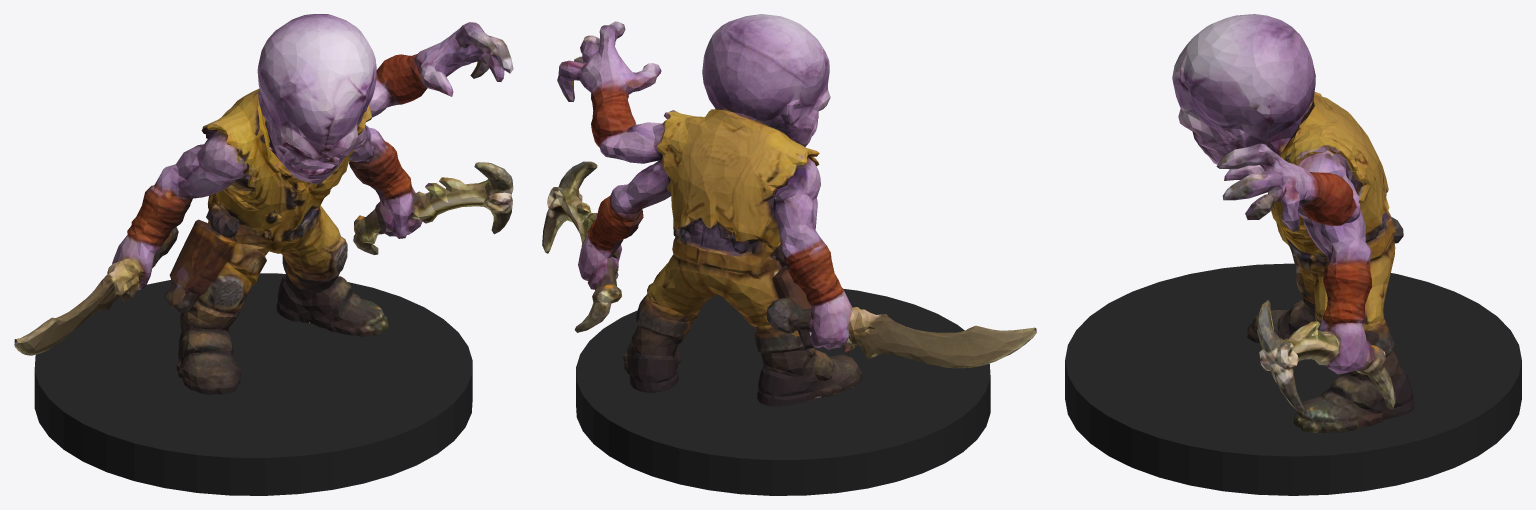
The model's file is acolyte-leader.glb.
The picture shows the model from 3 angles, left to right: view 1: azimuth 30°, elevation 25°; view 2: azimuth 150°, elevation 25°; view 3: azimuth 270°, elevation 25°; orthographic projection. The views are drawn at different scales.
Visible parts, largest first — view 1: figure, base; view 2: figure, base; view 3: base, figure.
Part boxes in pixels (bbox=[...]): figure: bbox=[14, 14, 513, 394]; base: bbox=[34, 273, 472, 495]; figure: bbox=[542, 14, 1036, 406]; base: bbox=[576, 288, 990, 495]; base: bbox=[1065, 263, 1521, 495]; figure: bbox=[1172, 14, 1414, 432].
Bounding box in the file's own units: 1.68 × 1.22 × 1.26.
Materials: 2 (1 with a texture image).
